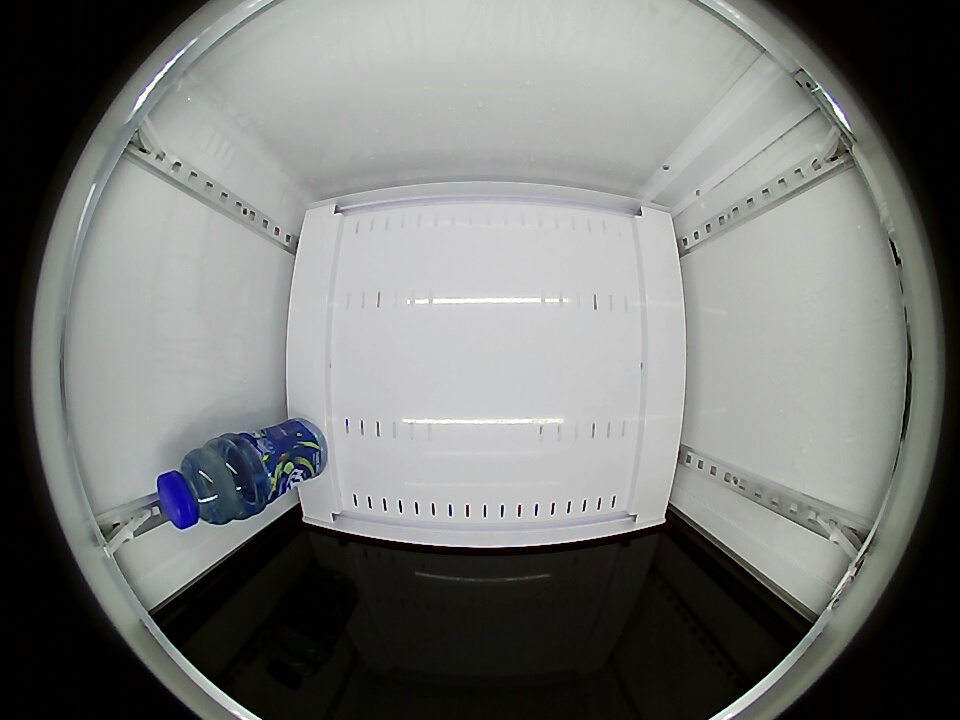maidong: (156, 443, 250, 530)
